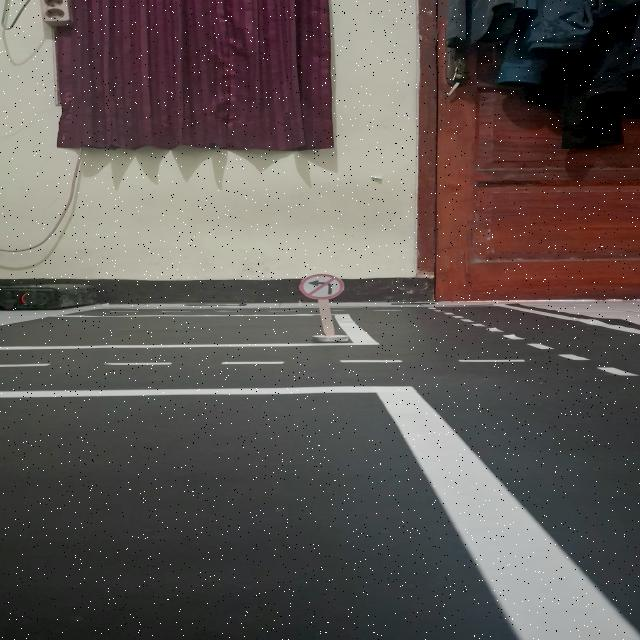Dilarang Belok Kiri: (299, 274, 345, 299)
